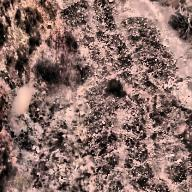boar: (102, 74, 124, 100)
